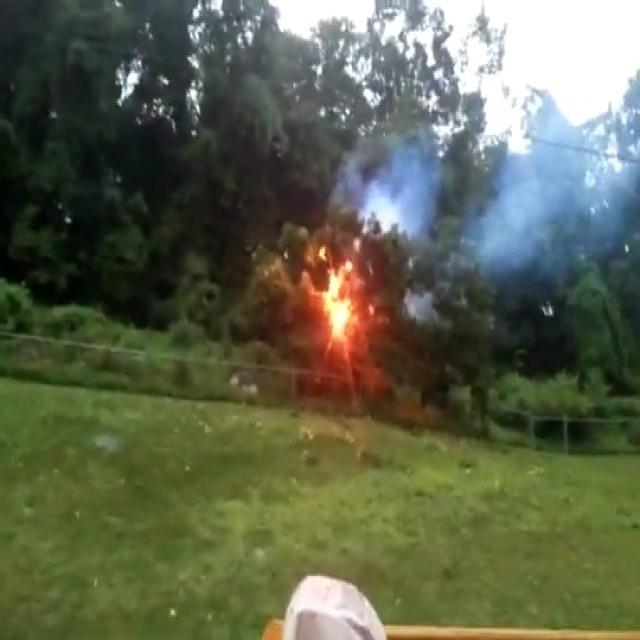Fire: (313, 246, 363, 344)
Smoke: (466, 103, 640, 277), (348, 122, 449, 238)
